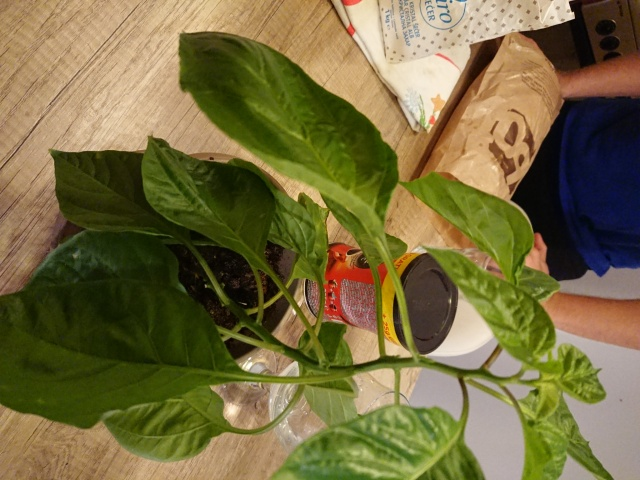Nescafe Classic 225g: (300, 239, 462, 358)
